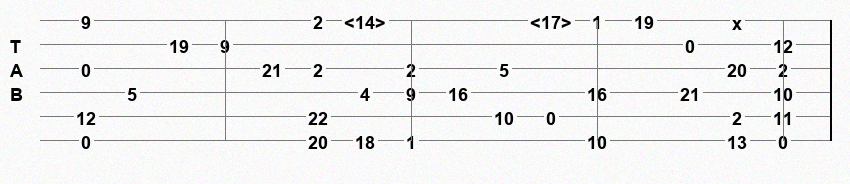0: (81, 132, 95, 149), (81, 60, 95, 77), (546, 108, 560, 125), (685, 36, 699, 53), (778, 132, 792, 149)
1: (406, 132, 420, 149), (592, 12, 606, 29)
10: (494, 108, 518, 125), (587, 132, 611, 149), (773, 84, 797, 101)
11: (773, 108, 797, 125)
12: (76, 108, 100, 125), (773, 36, 797, 53)
13: (727, 132, 751, 149)
16: (448, 84, 472, 101), (587, 84, 611, 101)
18: (355, 132, 379, 149)
19: (169, 36, 193, 53), (634, 12, 658, 29)
2: (313, 60, 327, 77), (313, 12, 327, 29), (406, 60, 420, 77), (732, 108, 746, 125), (778, 60, 792, 77)
20: (308, 132, 332, 149), (727, 60, 751, 77)
21: (262, 60, 286, 77), (680, 84, 704, 101)
22: (308, 108, 332, 125)
4: (360, 84, 374, 101)
5: (127, 84, 141, 101), (499, 60, 513, 77)
9: (81, 12, 95, 29), (220, 36, 234, 53), (406, 84, 420, 101)
harmonic: (344, 12, 390, 29), (530, 12, 576, 29)
x: (732, 13, 746, 27)
